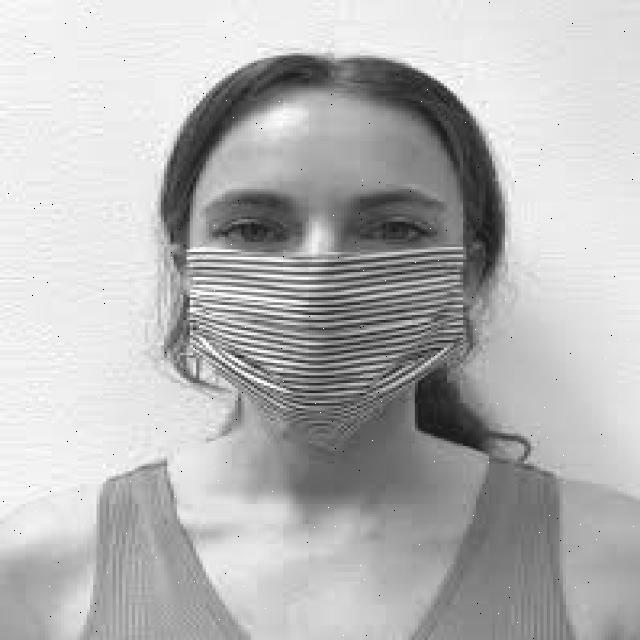fake: (185, 246, 470, 447)
real: (195, 108, 469, 427)
